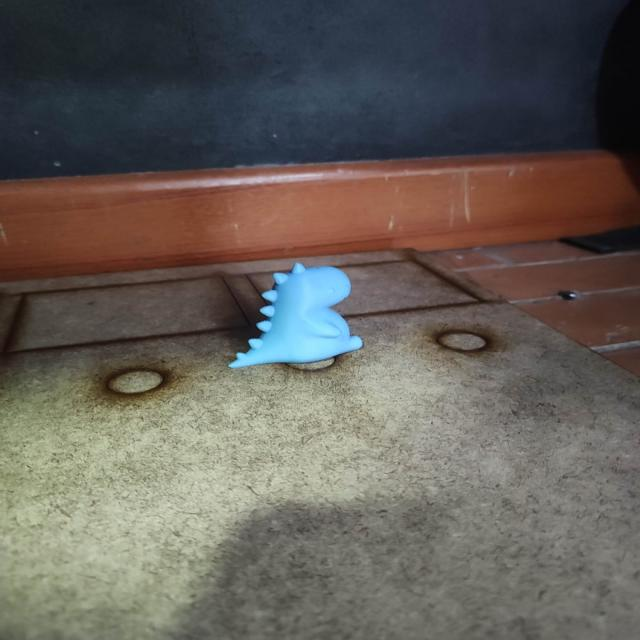DINO: (210, 258, 373, 370)
